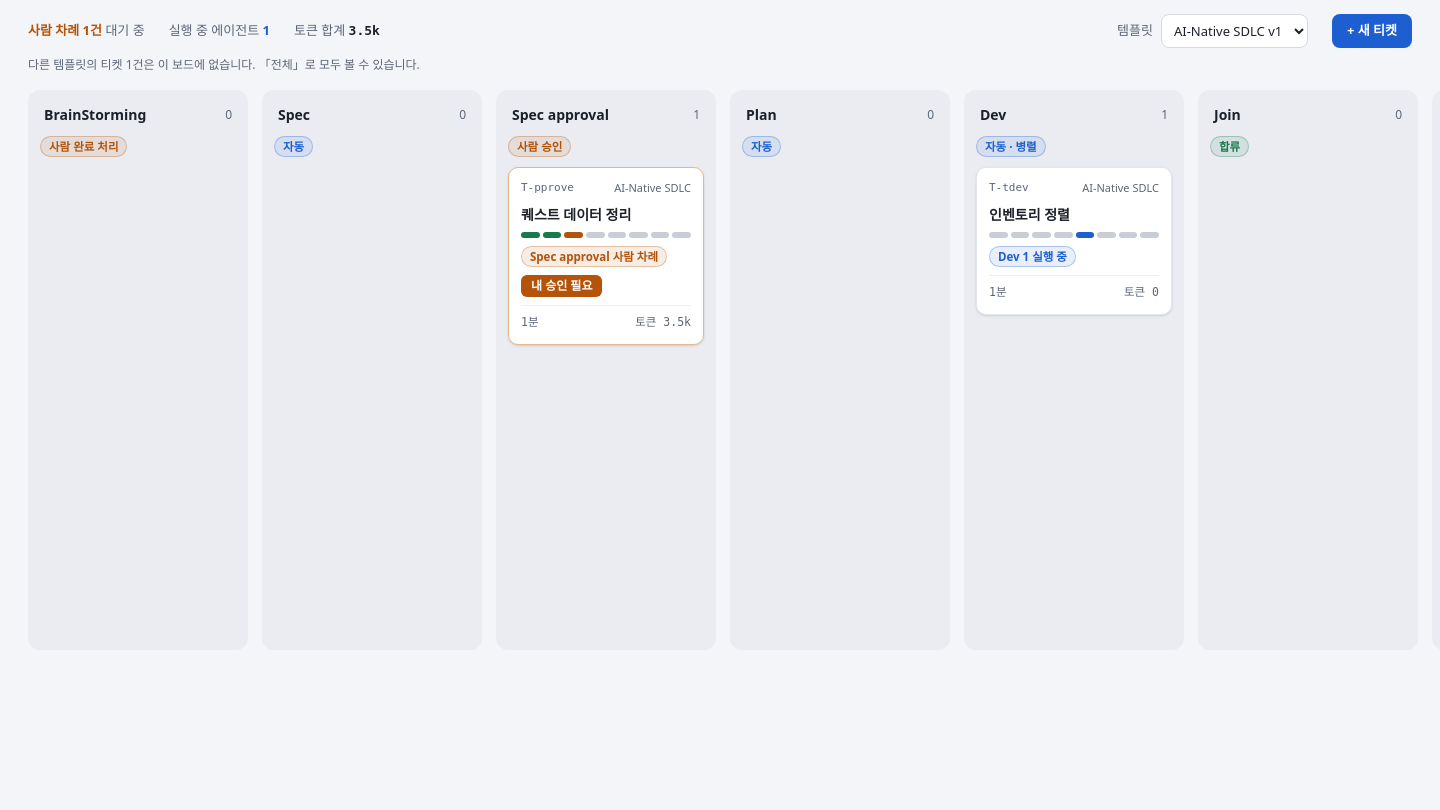
Test case: board › switches to state columns for all templates
Expected: the element "Spec approval" is shown, [496,90,716,650]
Select "전체 (상태별)" in the dropdown named "템플릿 필터". click: (1234, 31)
box: [1161,14,1308,48]
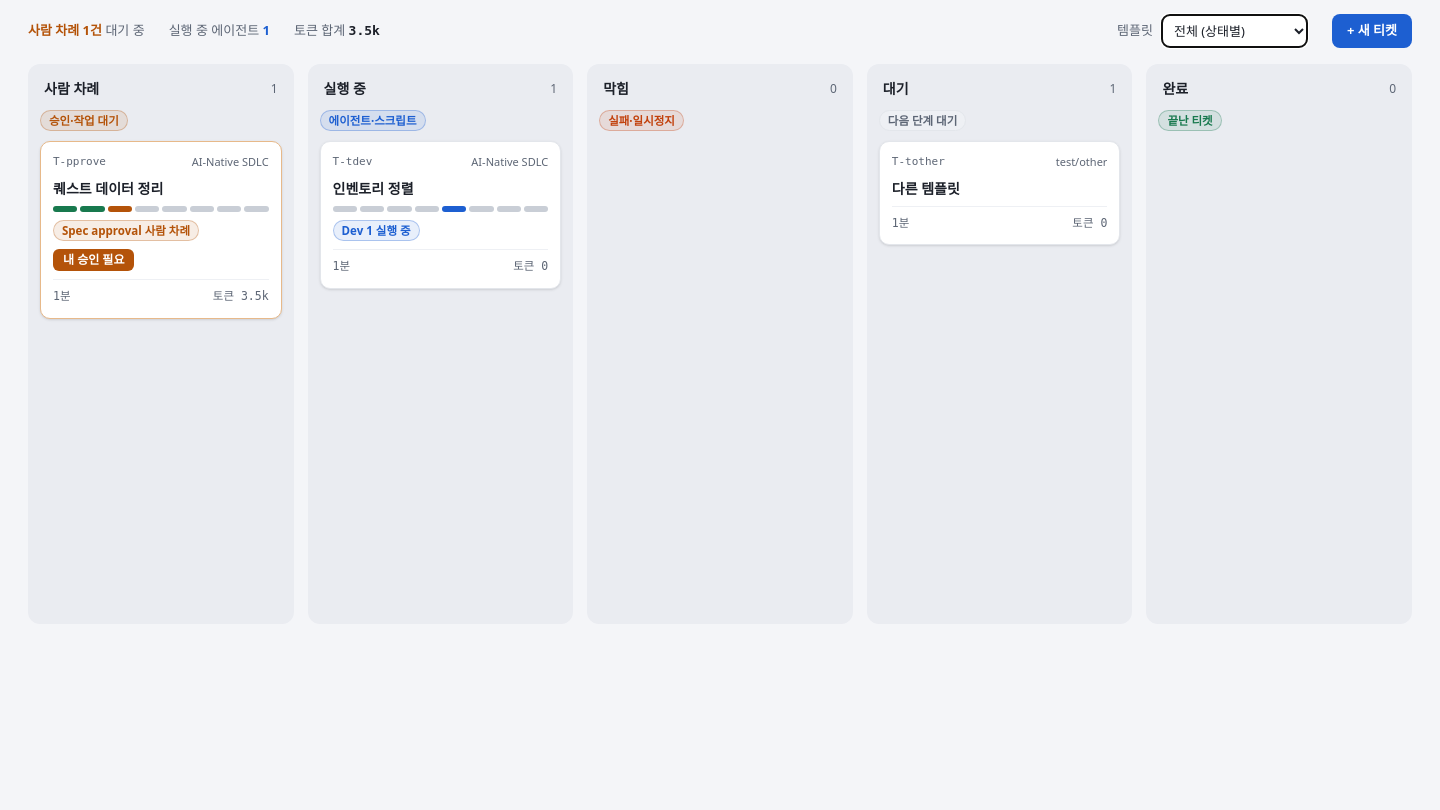
Expected: the element "퀘스트 데이터 정리" is shown, [40,141,282,319]
Expected: the element "다른 템플릿" is shown, [879,141,1120,245]
